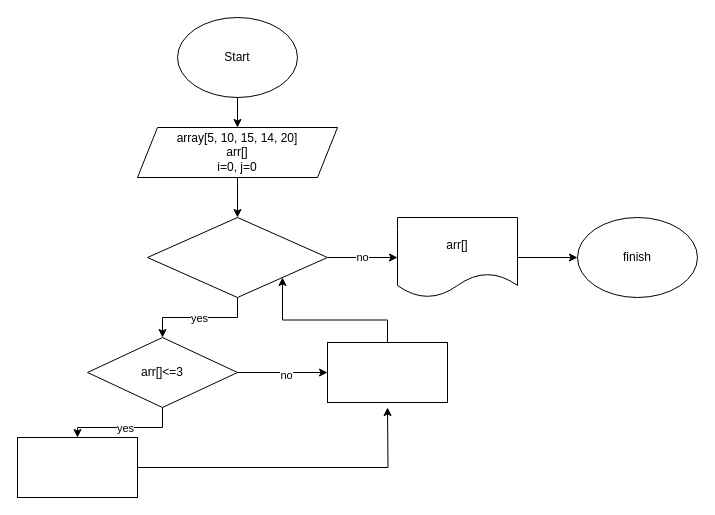
This 715x515 diagram has some shape labels left out. Each missing label, with the centre of its shape:
arr[j]=array[i] j++: [77,467]
i++: [387,372]
i<array[]: [237,257]
